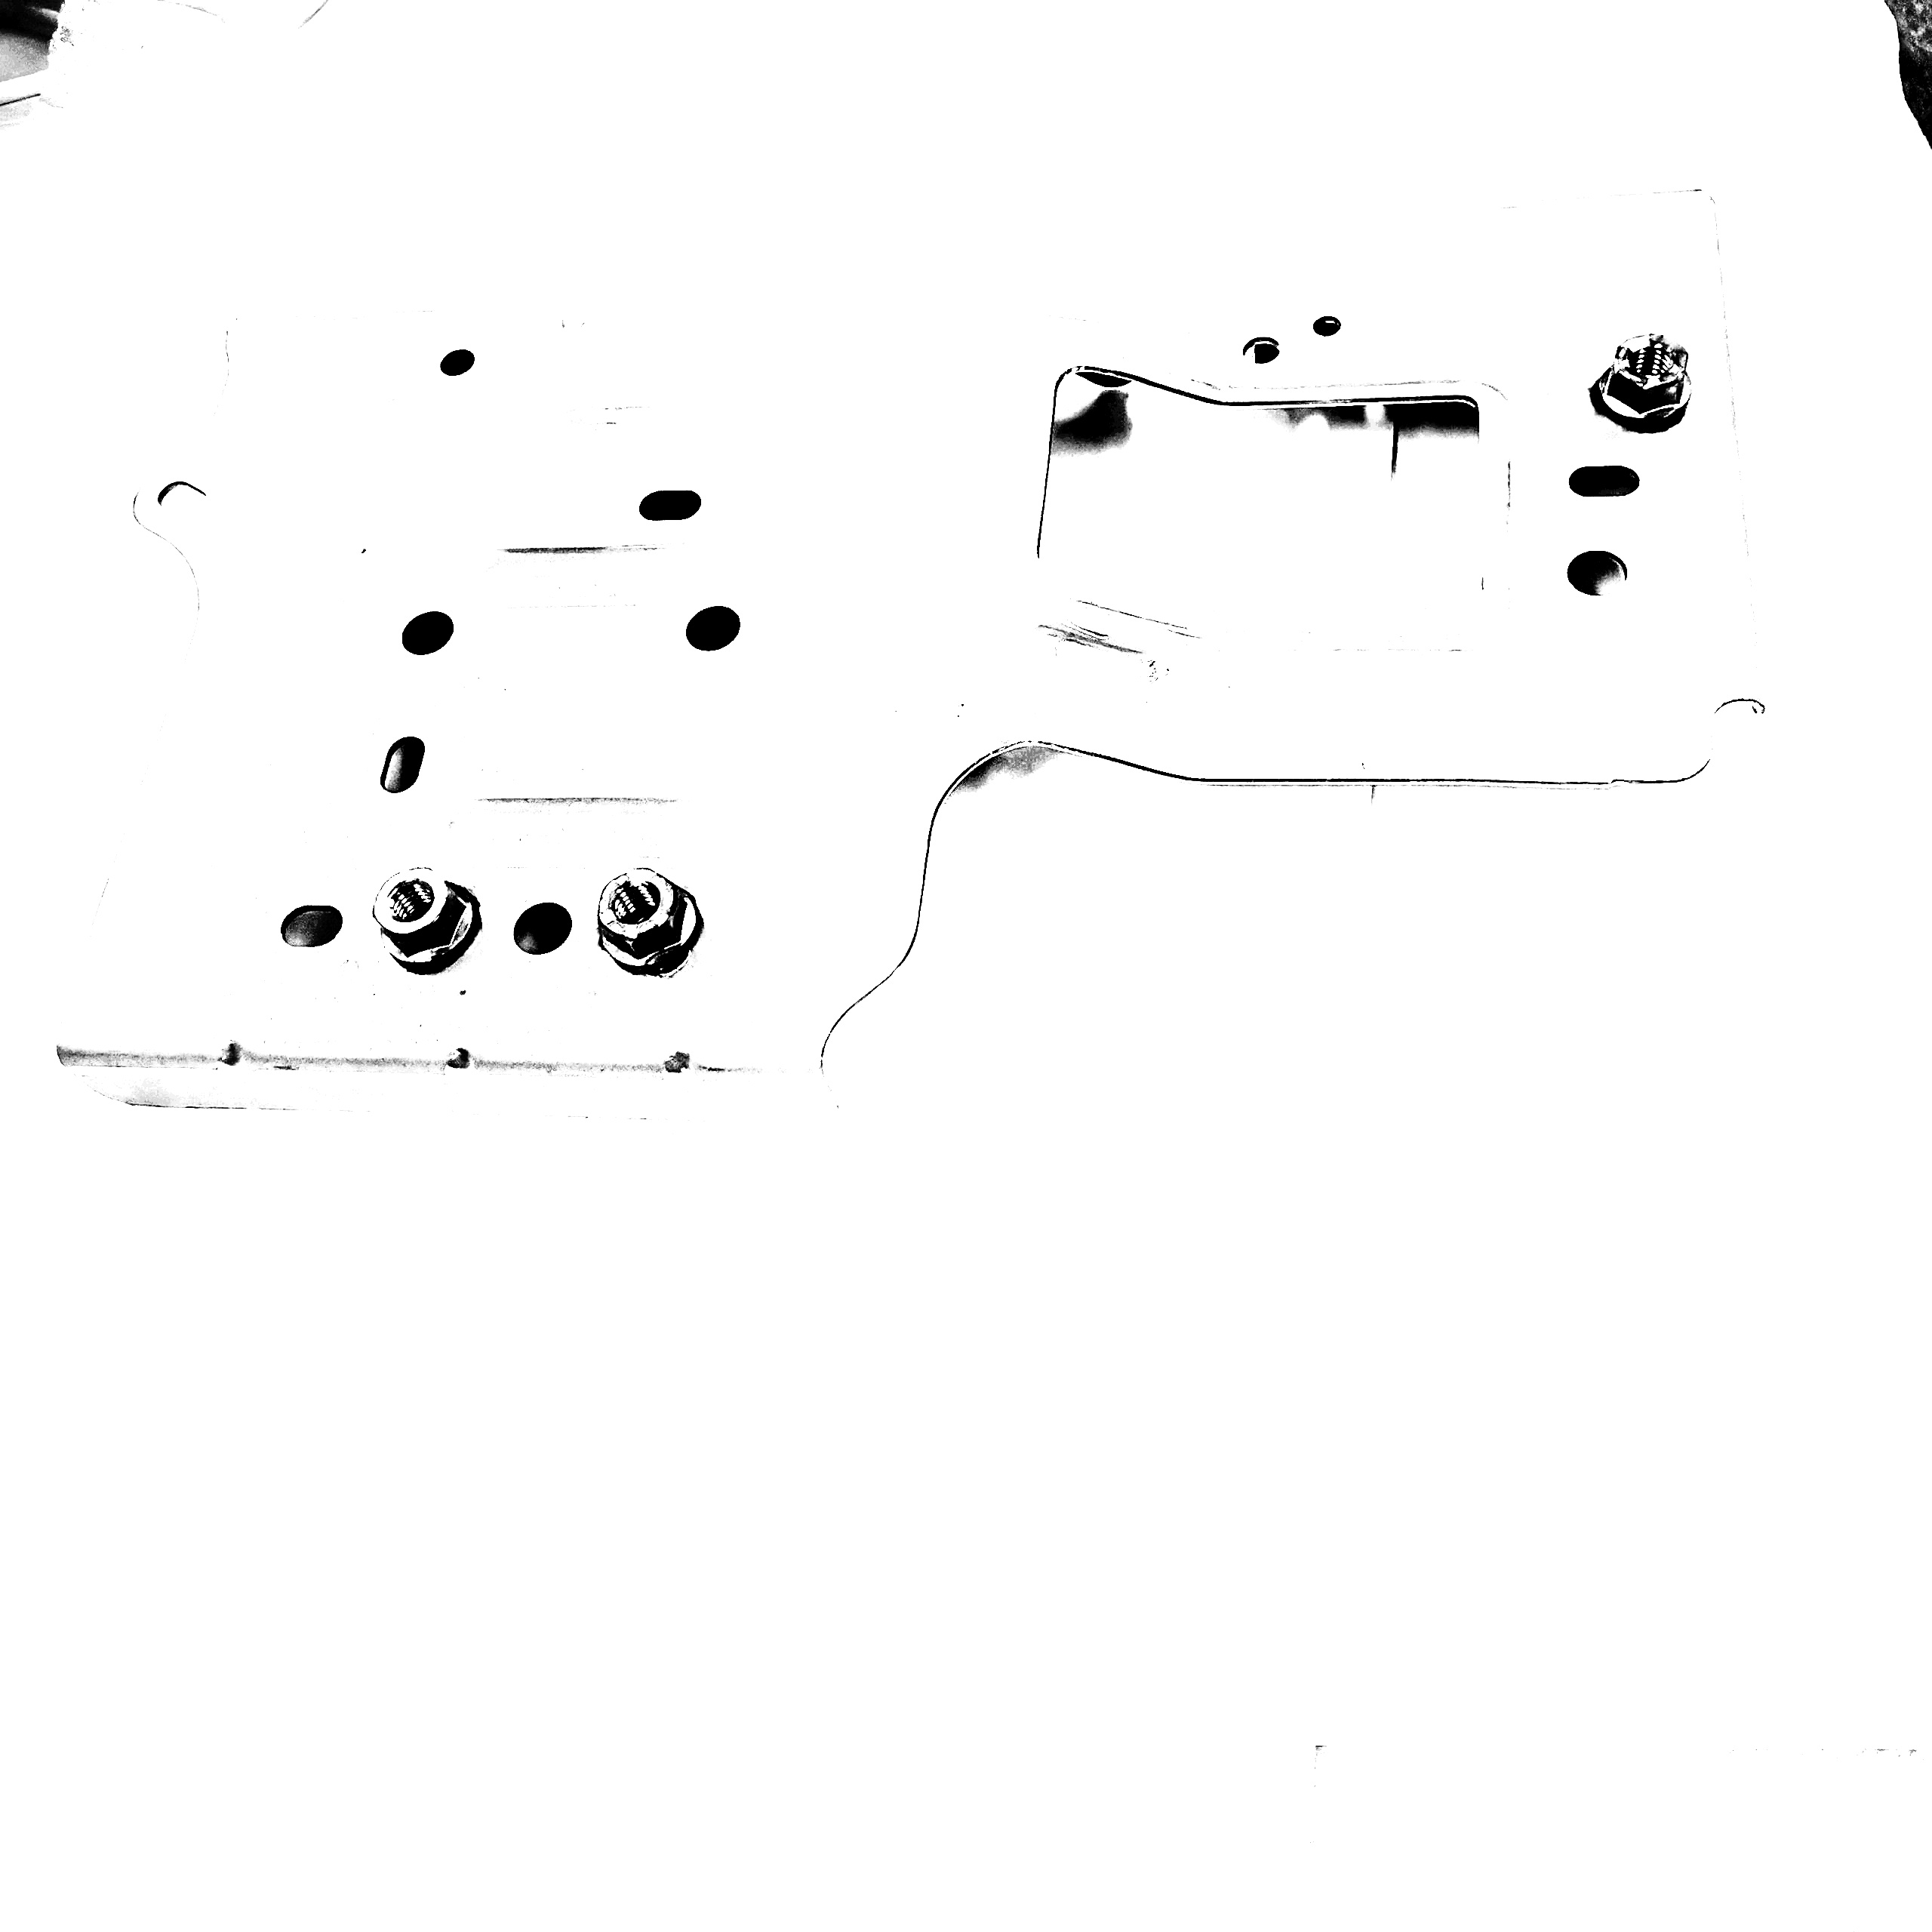dog: (589, 860, 706, 982), (1578, 326, 1697, 441), (364, 860, 479, 975)
